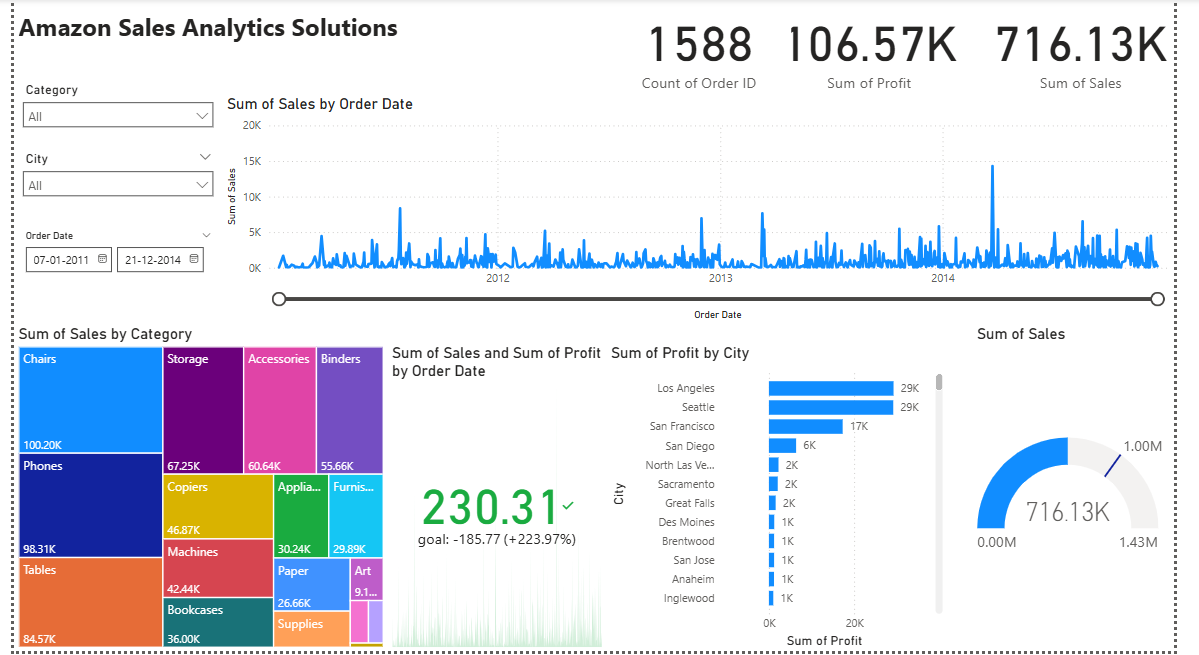

The page's visual inventory and layout, read from the dashboard file:
{"tool":"powerbi","page":{"name":"Page 1","canvas":[1280,720],"ordinal":0},"visuals":[{"type":"card","fields":{"Values":["Sum(Walmart.Sales)"]},"box":[1075.1,0,205.4,106],"z":0},{"type":"card","fields":{"Values":["Sum(Walmart.Profit)"]},"box":[829.9,0,228.6,106],"z":1000},{"type":"card","fields":{"Values":["Count(Walmart.Order ID)"]},"box":[654.3,0,203.7,106],"z":2000},{"type":"textbox","box":[0,6.6,672.5,92.8],"z":3000},{"type":"lineChart","fields":{"Y":["Sum(Walmart.Sales)"],"Category":["Walmart.Order Date"]},"box":[230.3,106,1050.2,253.4],"z":4000},{"type":"treemap","fields":{"Group":["Walmart.Category"],"Values":["Sum(Walmart.Sales)"]},"box":[0,359.5,412.5,361.1],"z":5000},{"type":"gauge","fields":{"Y":["Sum(Walmart.Sales)"]},"box":[1058.5,359.5,222,361.1],"z":6000},{"type":"barChart","fields":{"Category":["Walmart.City"],"Y":["Sum(Walmart.Profit)"]},"box":[654.3,381,376,339.6],"z":7000},{"type":"slicer","fields":{"Values":["Walmart.Category"]},"box":[0,86.1,230.3,67.9],"z":8000},{"type":"slicer","fields":{"Values":["Walmart.City"]},"box":[0,162.3,230.3,71.2],"z":9000},{"type":"slicer","fields":{"Values":["Walmart.Order Date"]},"box":[0,250.1,230.3,64.6],"z":10000},{"type":"kpi","fields":{"TrendLine":["Walmart.Order Date"],"Indicator":["Sum(Walmart.Sales)"],"Goal":["Sum(Walmart.Profit)"]},"box":[412.5,381,241.8,339.6],"z":11000}]}

Visuals, with their boxes in screenshot pixels (x1, y1, x2, y2), scaled from the page's 1280x720 canvas onto the 1199x655 screenshot:
card - Sum(Walmart.Sales): (x1=1007, y1=0, x2=1198, y2=96)
card - Sum(Walmart.Profit): (x1=777, y1=0, x2=992, y2=96)
card - Count(Walmart.Order ID): (x1=613, y1=0, x2=804, y2=96)
textbox: (x1=0, y1=6, x2=630, y2=90)
lineChart - Sum(Walmart.Sales) x Walmart.Order Date: (x1=216, y1=96, x2=1198, y2=327)
treemap - Walmart.Category x Sum(Walmart.Sales): (x1=0, y1=327, x2=386, y2=654)
gauge - Sum(Walmart.Sales): (x1=992, y1=327, x2=1198, y2=654)
barChart - Walmart.City x Sum(Walmart.Profit): (x1=613, y1=347, x2=965, y2=654)
slicer - Walmart.Category: (x1=0, y1=78, x2=216, y2=140)
slicer - Walmart.City: (x1=0, y1=148, x2=216, y2=212)
slicer - Walmart.Order Date: (x1=0, y1=228, x2=216, y2=286)
kpi - Walmart.Order Date x Sum(Walmart.Sales): (x1=386, y1=347, x2=613, y2=654)
